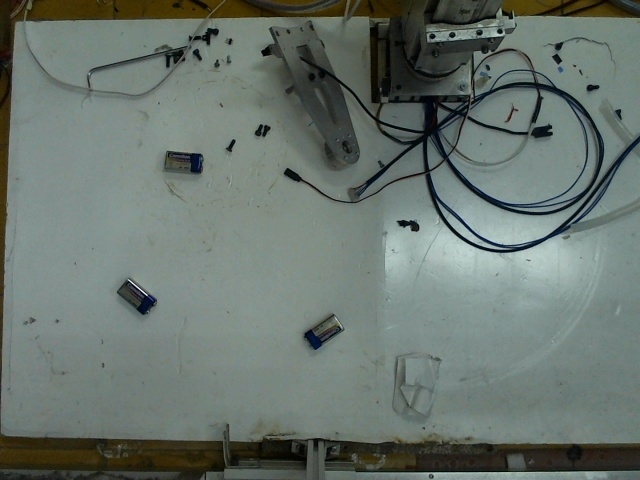battery: (111, 274, 158, 314), (302, 309, 340, 348), (162, 144, 202, 175)
